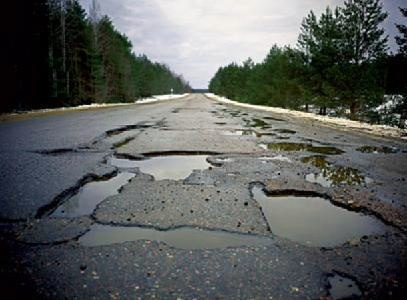pothole: (246, 177, 406, 250), (73, 217, 270, 252), (32, 168, 138, 218), (104, 151, 222, 183), (299, 153, 371, 187), (92, 121, 150, 151), (255, 137, 344, 152), (324, 267, 364, 299), (36, 145, 76, 157), (354, 143, 399, 153)
